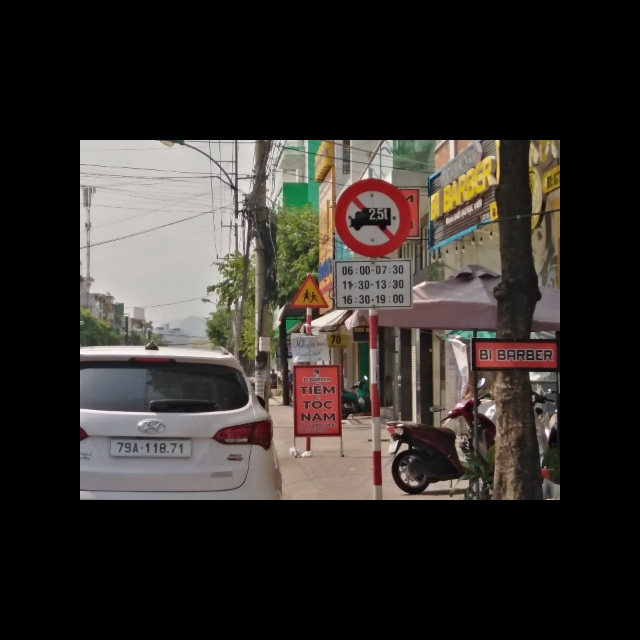Cấm xe tải: (333, 177, 414, 257)
Trẻ em ngang qua: (289, 273, 330, 310)
